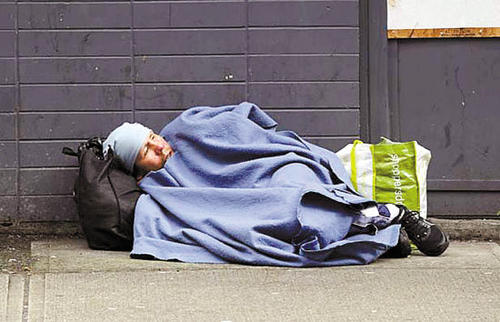fall: (51, 91, 460, 269)
